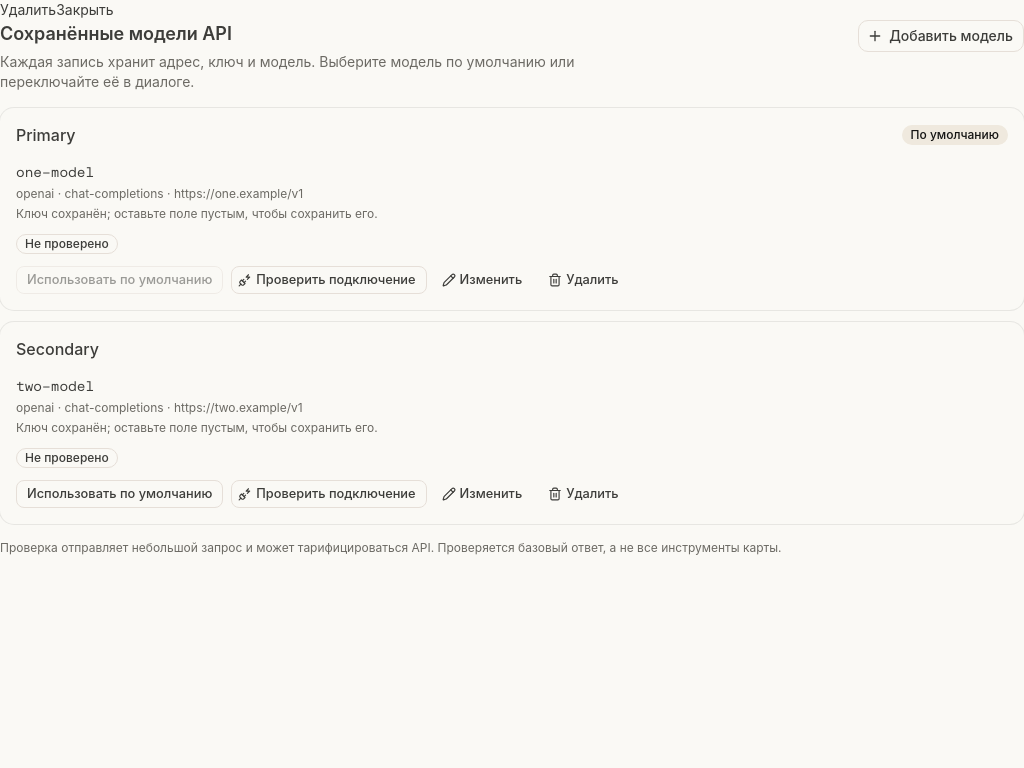
API profile settings › labels the delete-dialog close action in ru
Click the button "Удалить" below "https://two.example/v1" at (585, 494), box [541,480,630,508]
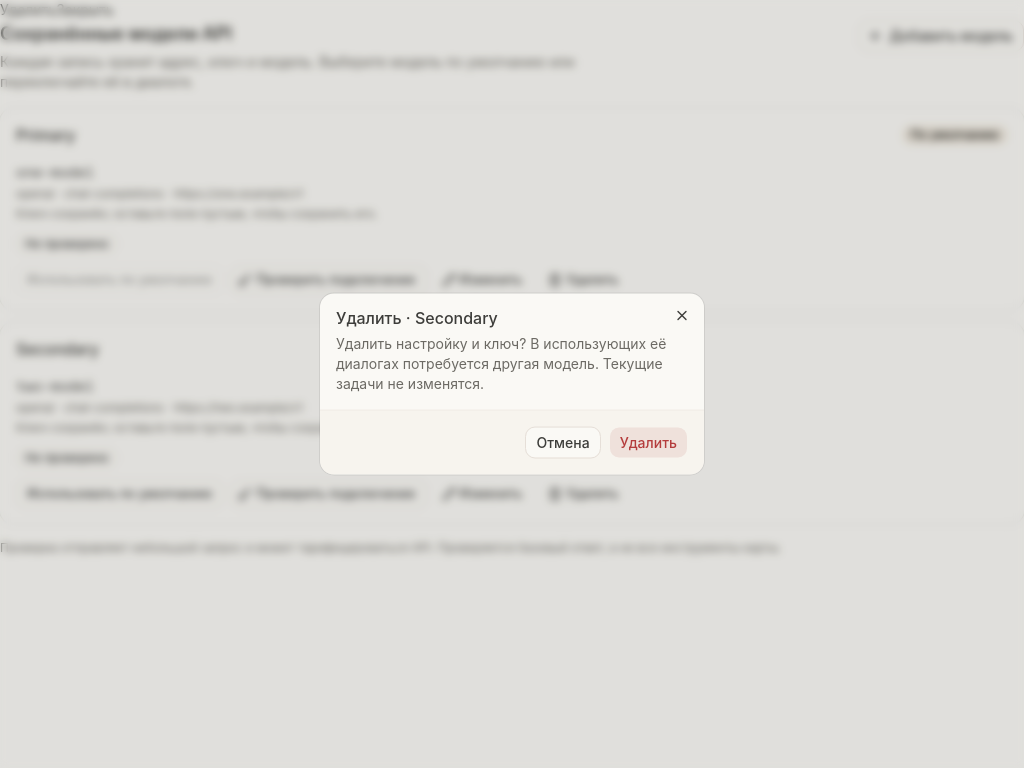
Click the button named "Закрыть" at (682, 316), box [668,302,696,330]
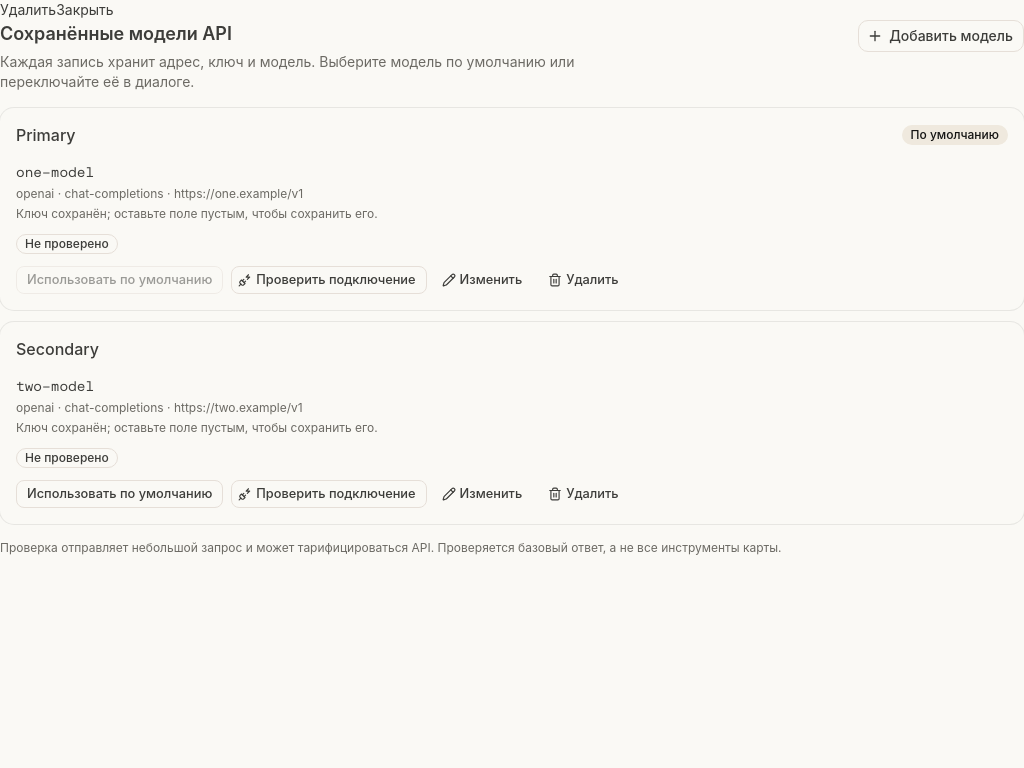
Result: the dialog is gone
